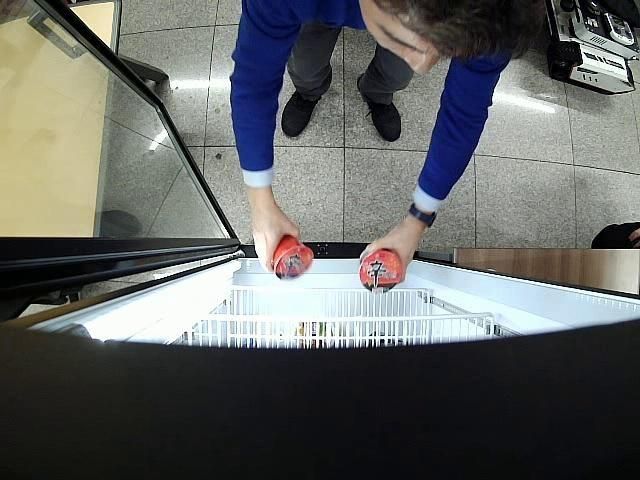02_shinRamen_S: (358, 249, 404, 292), (273, 235, 313, 280)
